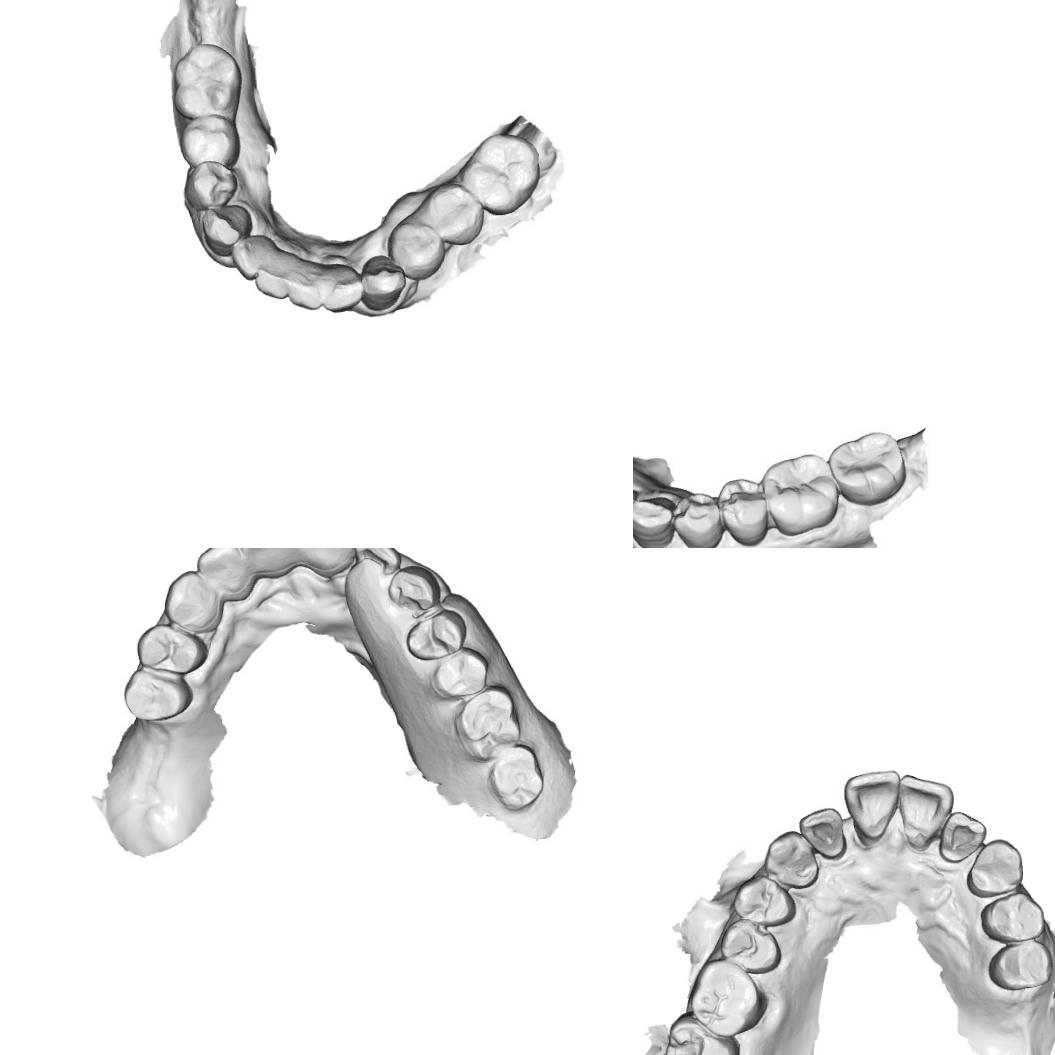canine: (161, 567, 222, 633), (964, 838, 1024, 898), (763, 830, 819, 890), (388, 561, 444, 616), (196, 203, 250, 259), (359, 252, 406, 312), (633, 497, 671, 548)
incisor: (896, 772, 956, 851), (843, 770, 901, 840), (193, 548, 249, 598), (317, 258, 363, 315), (938, 811, 988, 863), (798, 807, 846, 860), (250, 247, 293, 301), (228, 233, 276, 280), (285, 256, 324, 312), (290, 548, 360, 570), (234, 548, 295, 573), (354, 548, 403, 573)
molar: (459, 130, 541, 217), (762, 452, 841, 536), (690, 957, 768, 1038), (451, 683, 524, 766), (830, 430, 908, 506), (170, 42, 242, 119), (422, 180, 487, 247), (488, 742, 548, 814), (663, 1008, 741, 1055), (178, 112, 238, 167)
premolar: (133, 622, 209, 679), (120, 666, 192, 722), (386, 218, 447, 280), (428, 644, 493, 702), (404, 606, 468, 664), (718, 918, 782, 975), (732, 873, 796, 928), (979, 891, 1045, 944), (987, 938, 1053, 991), (671, 493, 728, 548), (182, 159, 240, 212), (719, 479, 766, 542)
